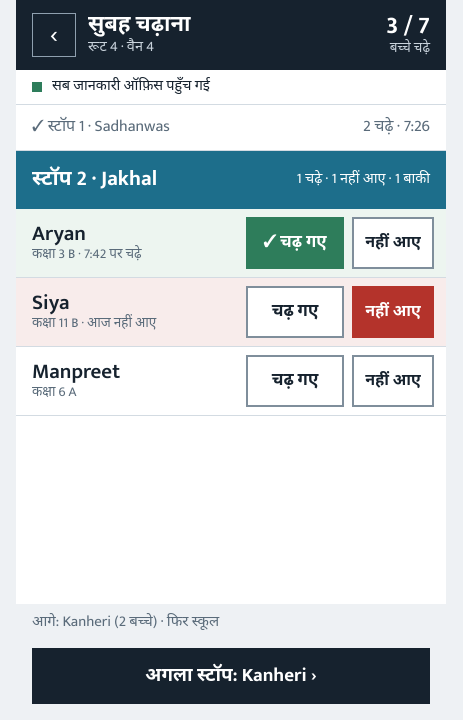
Scenario: Morning pickup (/trip/pickup) › the other button changes the answer; only one tap stays in the queue
This screenshot has width=463, height=720.
Click the button "चढ़ गए" next to "Manpreet". click: coordinates (295, 380)
box: [246, 354, 344, 406]
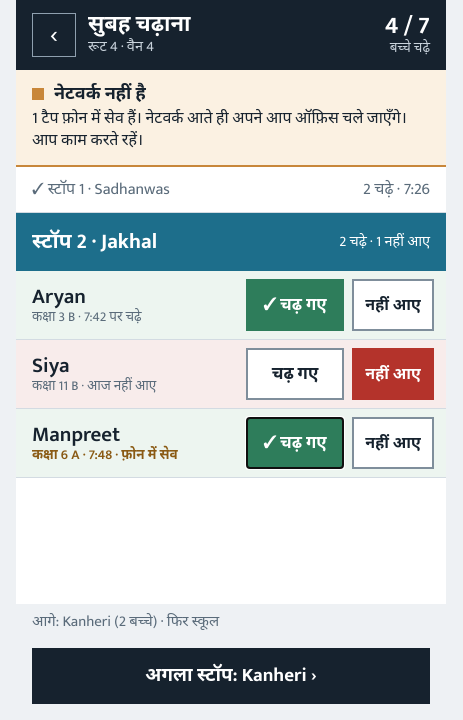
Click the button "नहीं आए" in the row of "कक्षा 6 A · 7:48 · फ़ोन में सेव". click: coordinates (393, 443)
box: [352, 417, 434, 469]
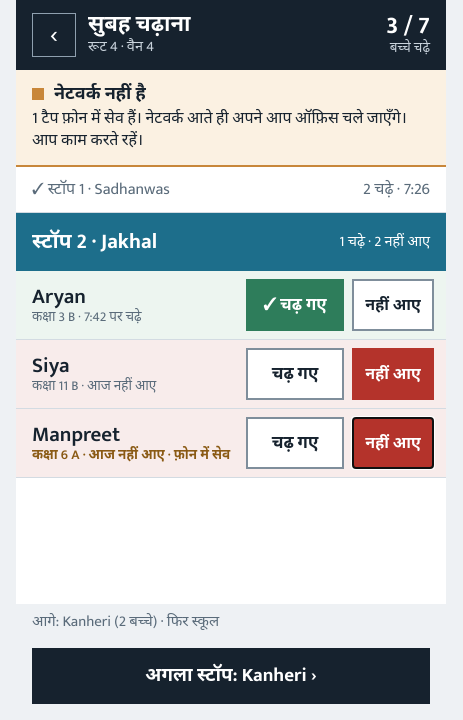
Now the text "कक्षा 6 A · आज नहीं आए · फ़ोन में सेव" is shown, box [32, 447, 238, 465]
Now the text "1 चढ़े · 2 नहीं आए" is shown, box [339, 233, 430, 252]
